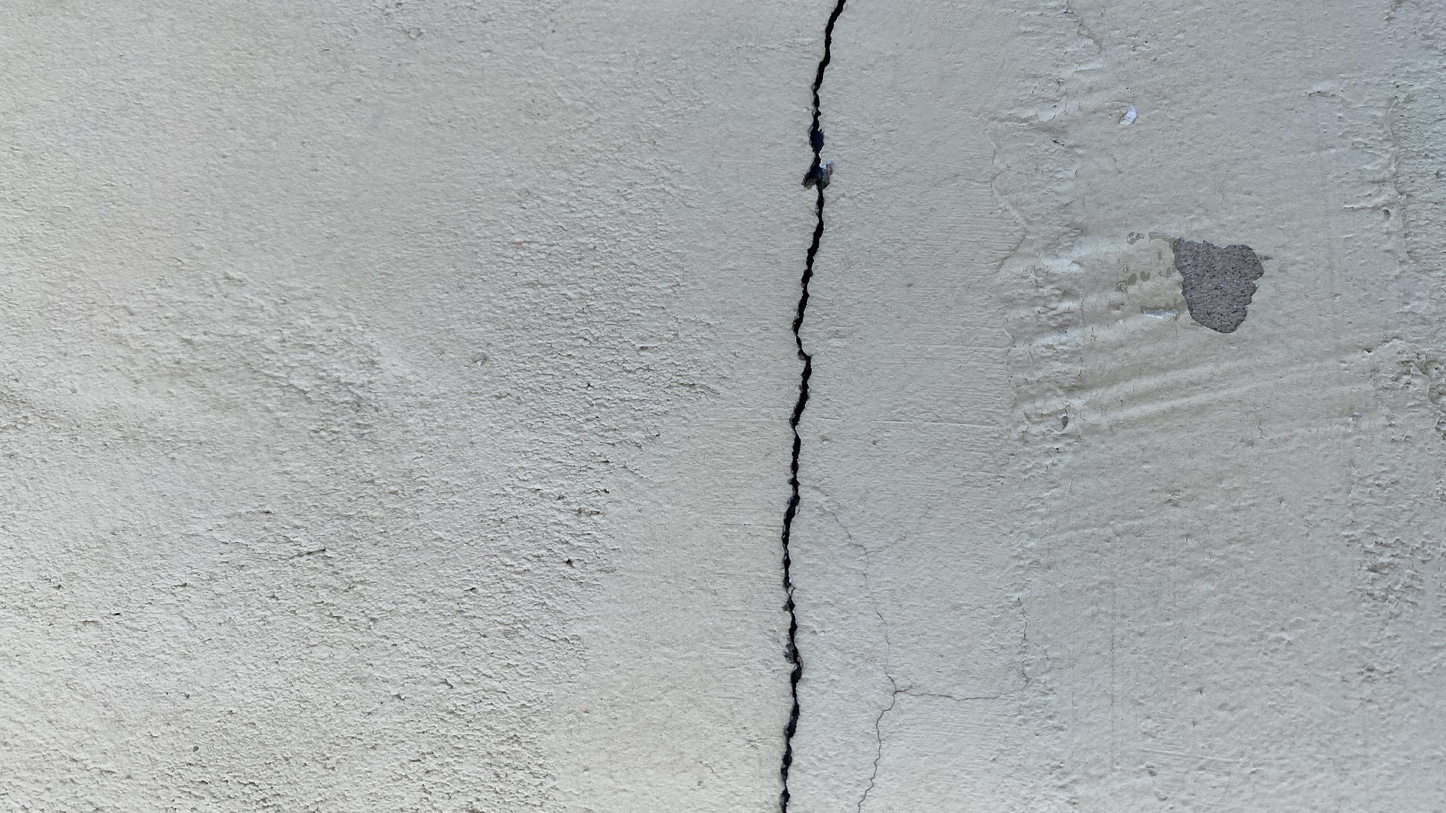crack: (779, 0, 846, 812), (858, 690, 991, 812)
